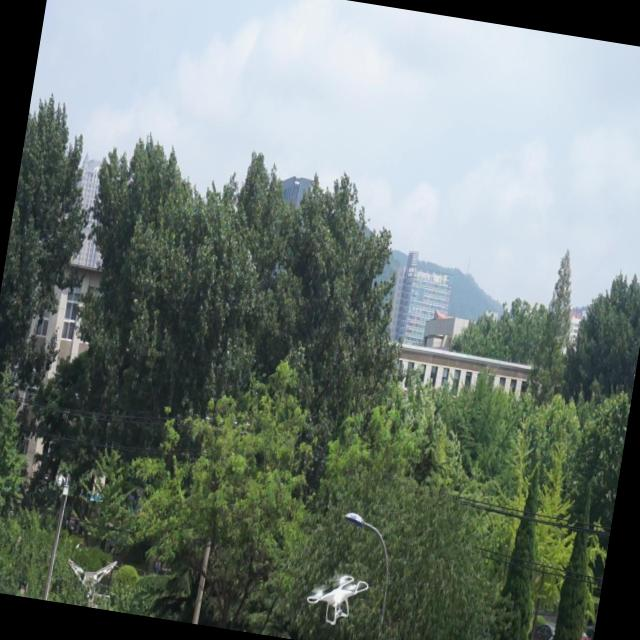drone: (304, 562, 374, 630)
